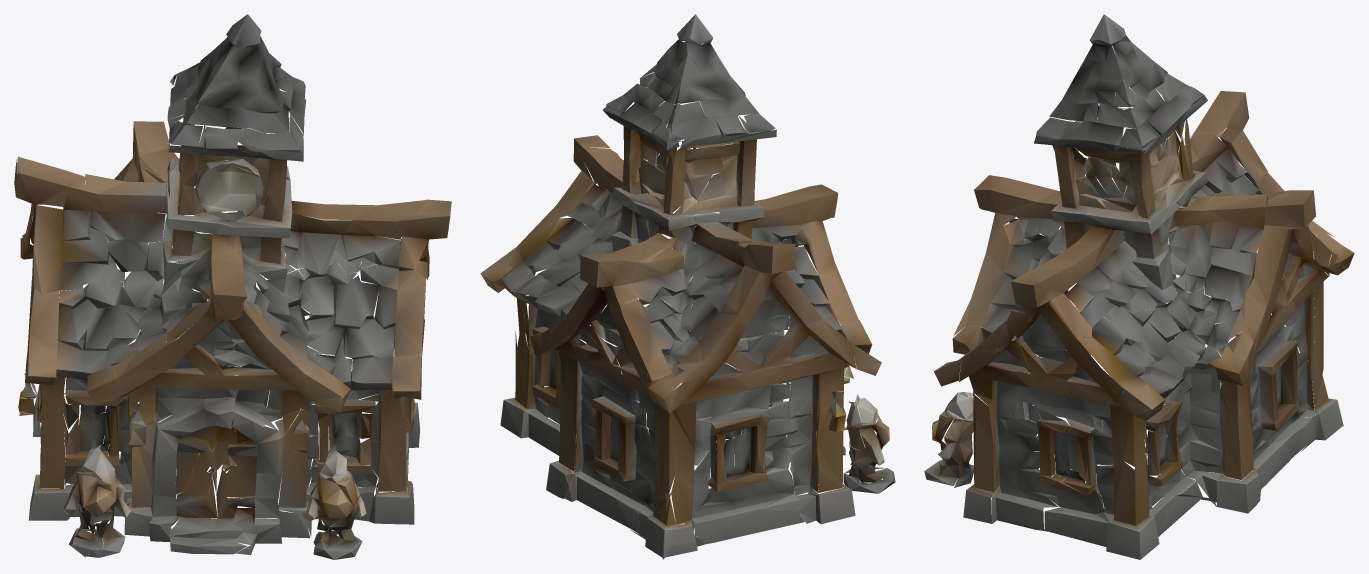
Rendered from emberdeep_town_centre.glb.
3 views of the same model, side by side, from view 1: azimuth 30°, elevation 25°; view 2: azimuth 150°, elevation 25°; view 3: azimuth 270°, elevation 25° (orthographic). The views are drawn at different scales.
Visible parts, largest first — view 1: emberdeep_town_centre; view 2: emberdeep_town_centre; view 3: emberdeep_town_centre.
Part boxes in pixels (x1=…): emberdeep_town_centre: x1=14, y1=14, x2=451, y2=559; emberdeep_town_centre: x1=480, y1=14, x2=895, y2=559; emberdeep_town_centre: x1=924, y1=14, x2=1354, y2=559.
Size of the model in its own units: 3.27 by 3.6 by 3.05.
